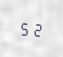five: (19, 19, 30, 36)
two: (31, 20, 42, 37)
